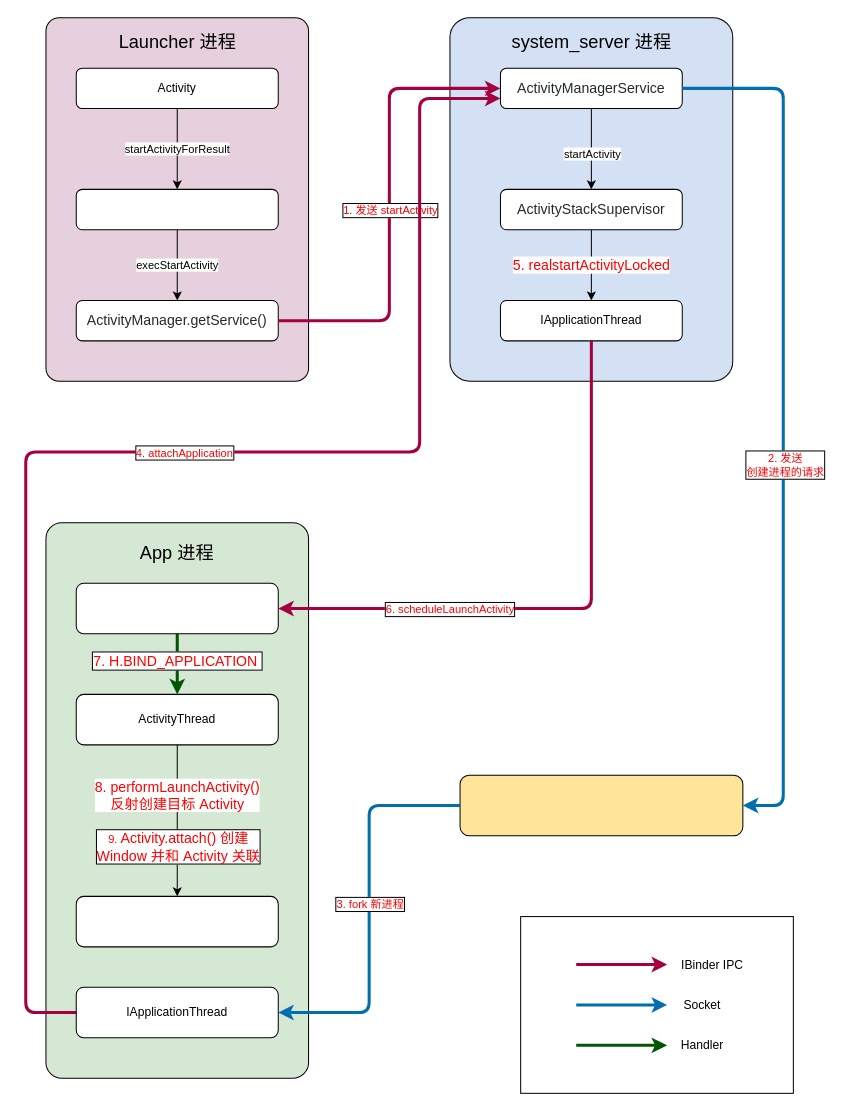
This 842x1111 diagram has some shape labels left out. Each missing label, with the centre of its shape:
Activity.OnCreate(): point (176, 921)
ApplicationThread: point (176, 608)
Instrumentation: point (176, 209)
Zygote 进程: point (601, 805)
